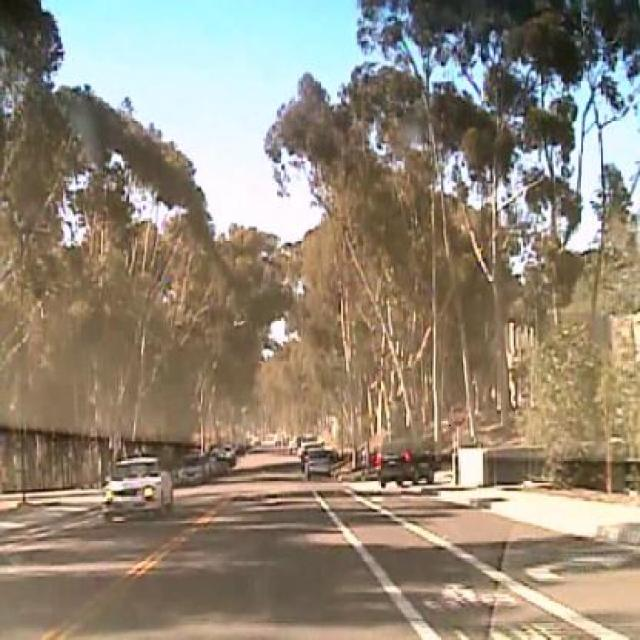stop: (450, 403, 466, 428)
